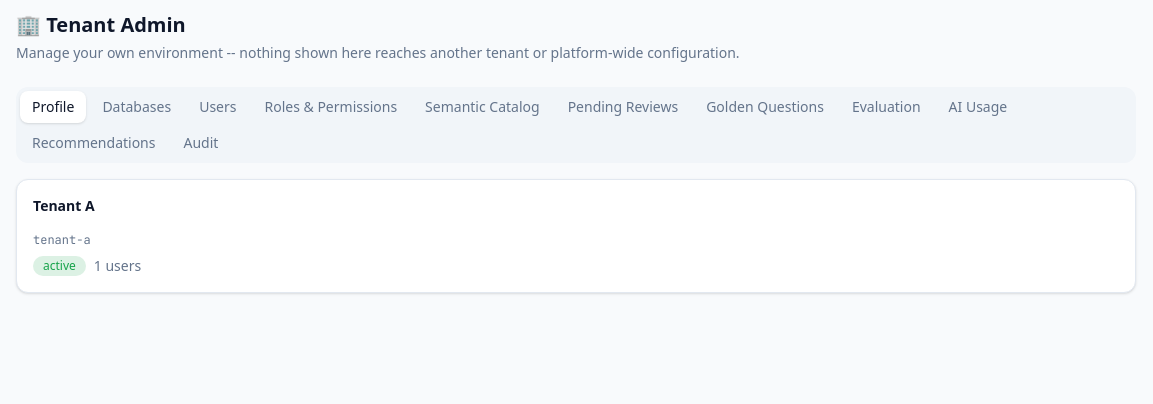
TenantAdmin › shows recommendations reused from the existing recommendations route
The image size is (1153, 404).
Click the tab "Recommendations": [94, 143] box [20,127,168,159]
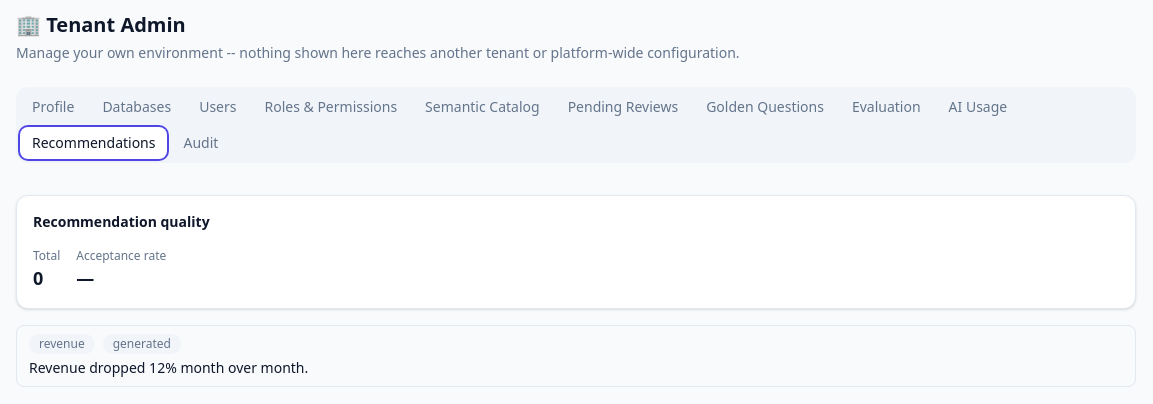
Check: the text "Revenue dropped 12% month over month." is shown, box [29,358,308,377]
